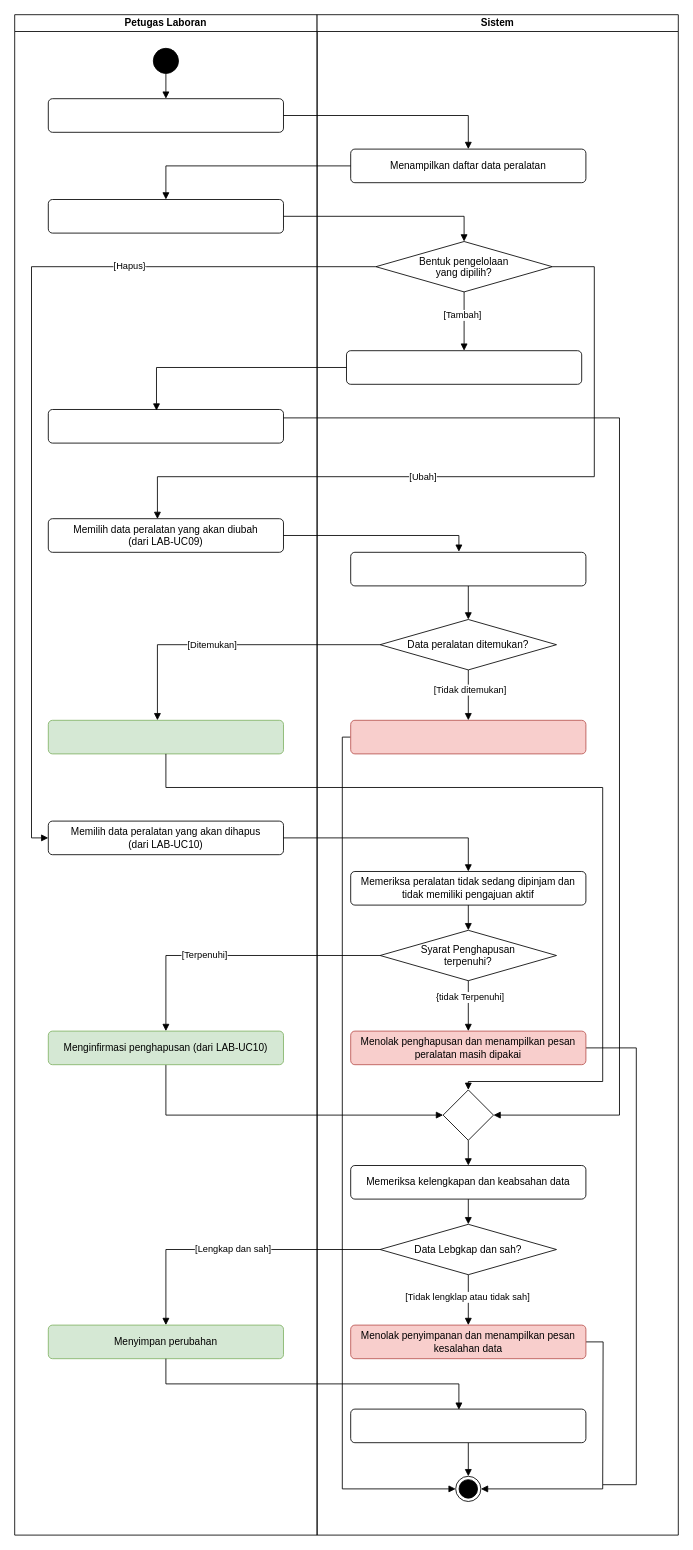
Some shapes in this 693 by 1550 pixel diagram are drawn without their labels. Each missing label, with the box of its shape:
Membuka Fungsi Kelola Data Peralatan: (47, 98, 284, 132)
Memilih bentuk pengelolaan (Tambah, ubah, atau hapus): (47, 199, 284, 233)
Menampilkan data peralatan saat ini: (350, 551, 586, 586)
Menampilkan Formulir data peralatan: (346, 350, 582, 384)
Mengisi data peralatan baru (dari LAB-UC08): (47, 409, 284, 443)
Mengubah data peralatan (dari LAB-UC09): (47, 719, 284, 754)
Menyimpan perubahan dan menampilkan konfirmasi: (350, 1408, 586, 1443)
Mrnampilkan pesan data peralatan tidak ditemukan: (350, 719, 586, 754)
